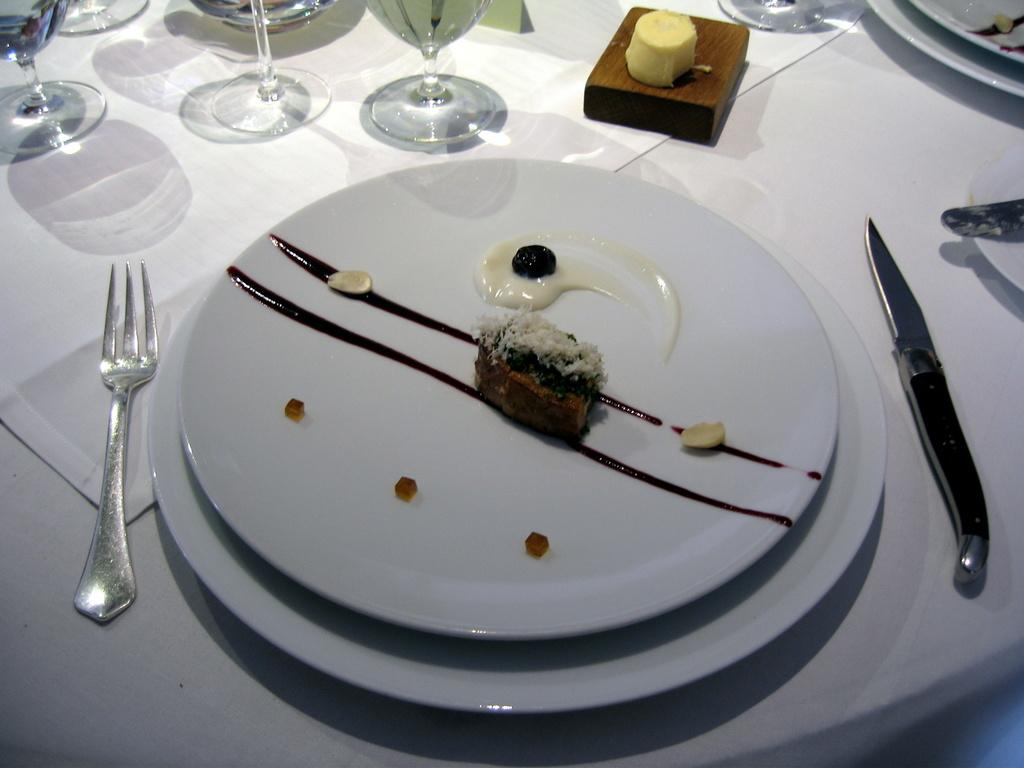Knife: (870, 214, 996, 590)
